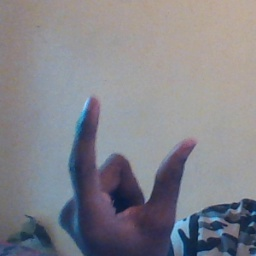U: (52, 92, 201, 254)
